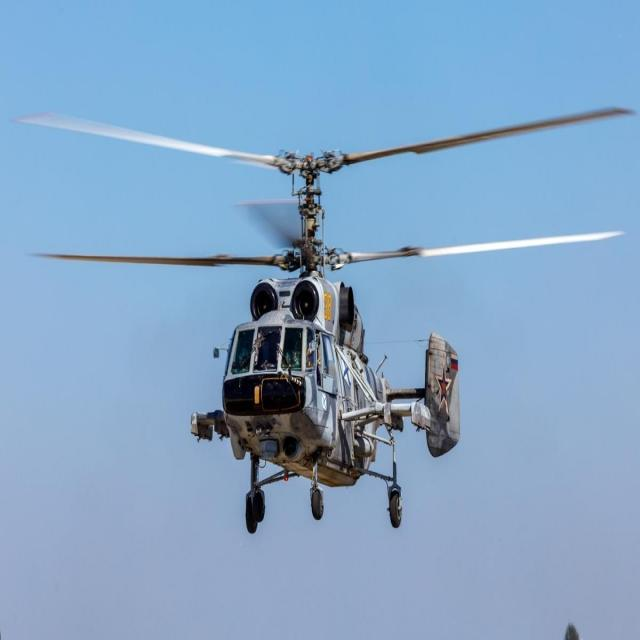MIL_HELO: (12, 95, 640, 537)
